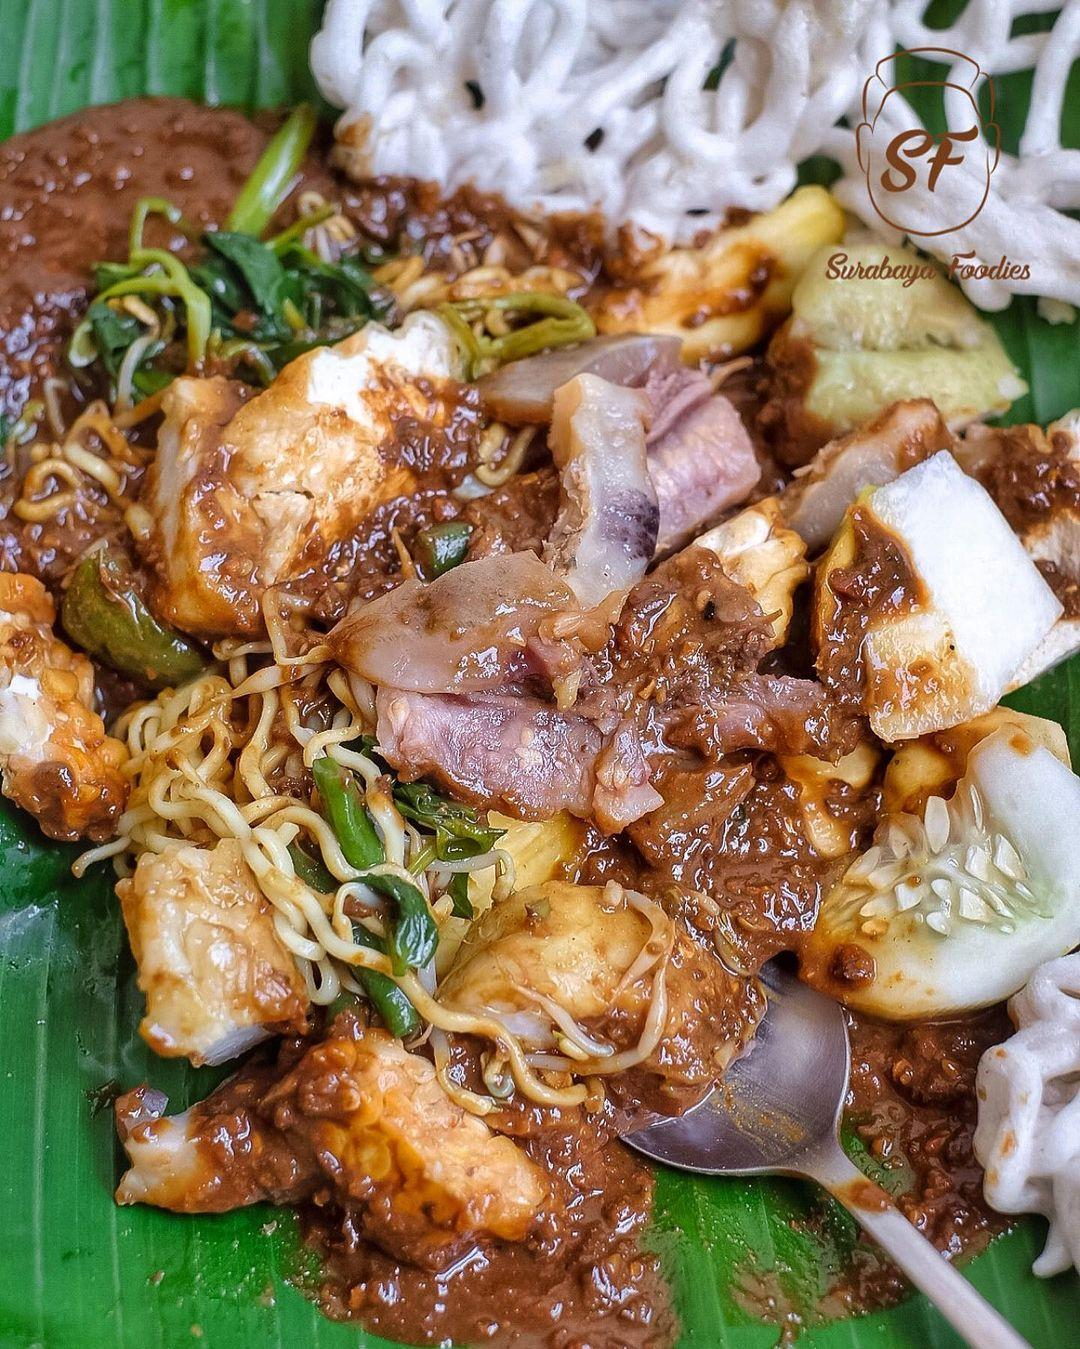rujak_cingur: (2, 228, 1080, 1336)
